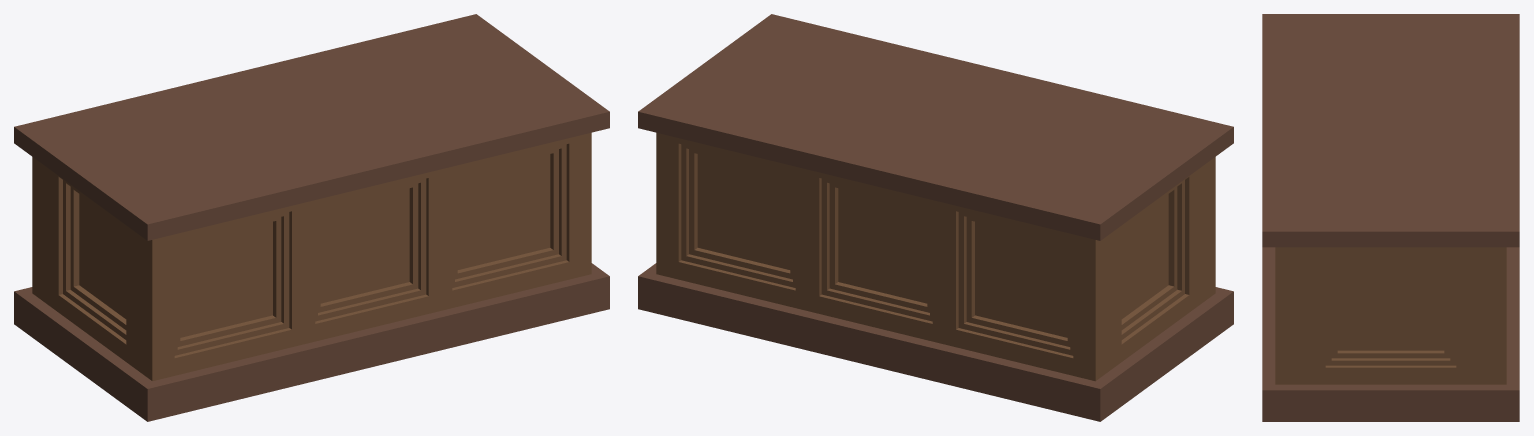
The model's file is BarTable.fbx.
3 views of the same model, side by side, from view 1: azimuth 30°, elevation 25°; view 2: azimuth 150°, elevation 25°; view 3: azimuth 270°, elevation 25° (orthographic). The views are drawn at different scales.
Parts seen in each view (by area): view 1: BarTable; view 2: BarTable; view 3: BarTable.
Boxes of the visible parts, left/top/right/bottom form: BarTable: left=14, top=14, right=609, bottom=421; BarTable: left=638, top=14, right=1233, bottom=421; BarTable: left=1262, top=14, right=1519, bottom=421.
Bounding box in the file's own units: 200 × 81.64 × 100.
